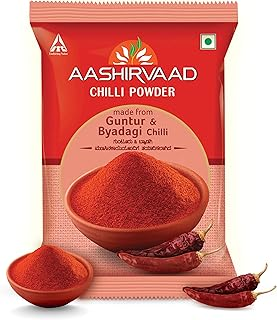Chilli Powder: (28, 2, 264, 317)
